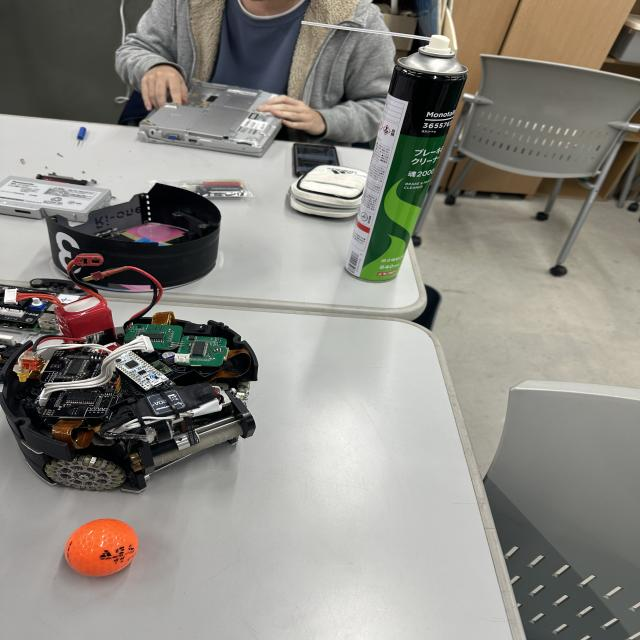ball: (63, 517, 140, 579)
